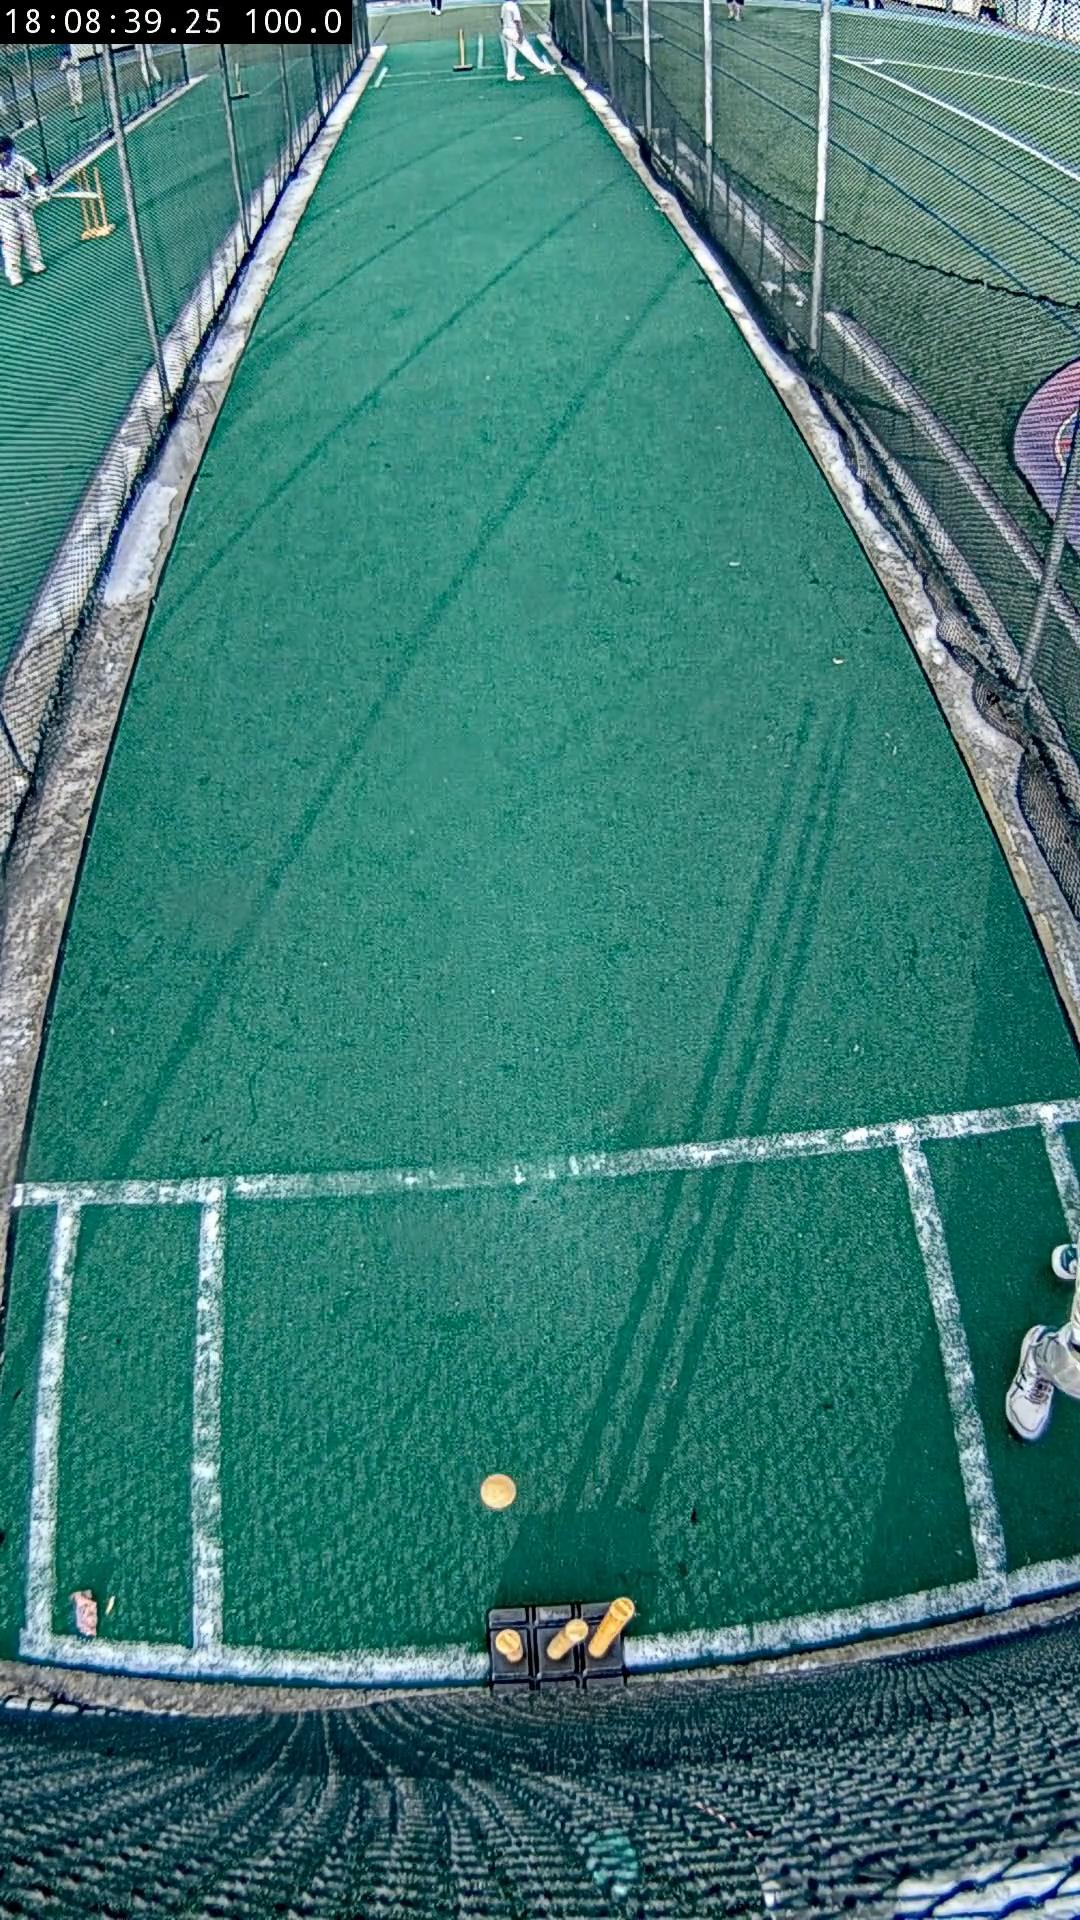ball: (480, 1474, 517, 1511)
stumps: (488, 1597, 634, 1692)
